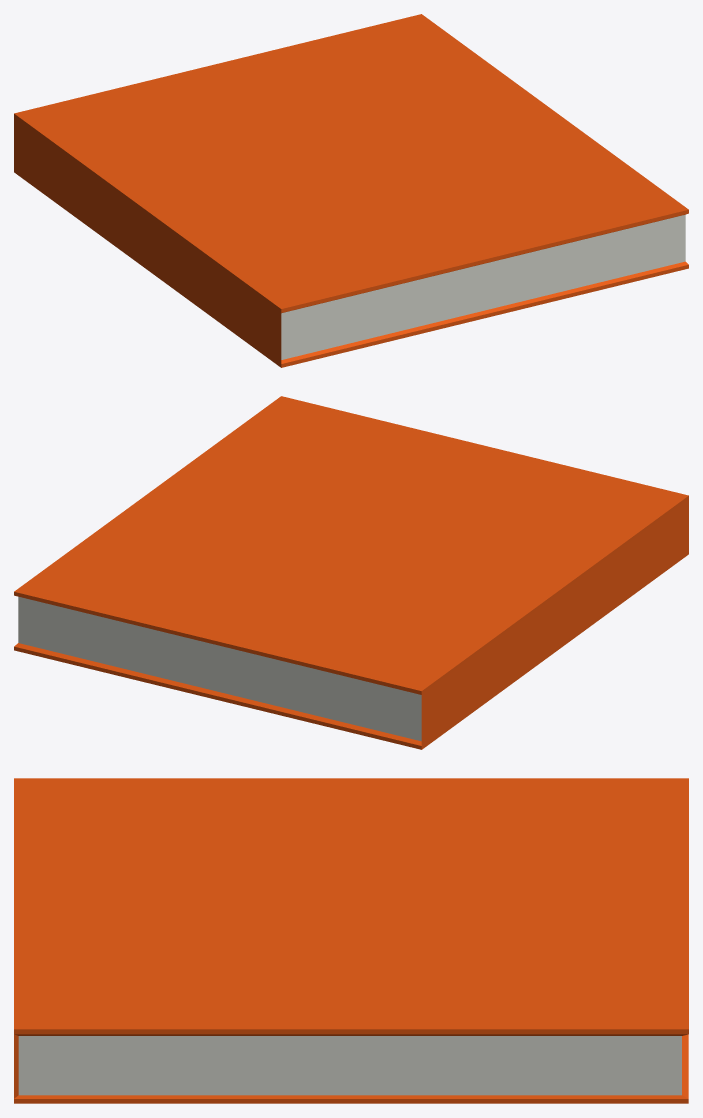
Rendered from orange book.fbx.
3 views of the same model, one above another, from view 1: azimuth 30°, elevation 25°; view 2: azimuth 150°, elevation 25°; view 3: azimuth 270°, elevation 25° (orthographic). The views are drawn at different scales.
Parts seen in each view (by area): view 1: book; view 2: book; view 3: book.
Boxes of the visible parts, x1=… form: book: x1=14, y1=14, x2=688, y2=367; book: x1=14, y1=396, x2=688, y2=749; book: x1=14, y1=778, x2=688, y2=1103.
Size of the model in its own units: 179 by 24.7 by 203.
